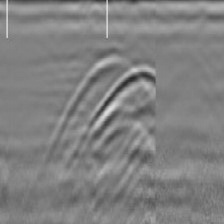Utility: (46, 52, 156, 160)
